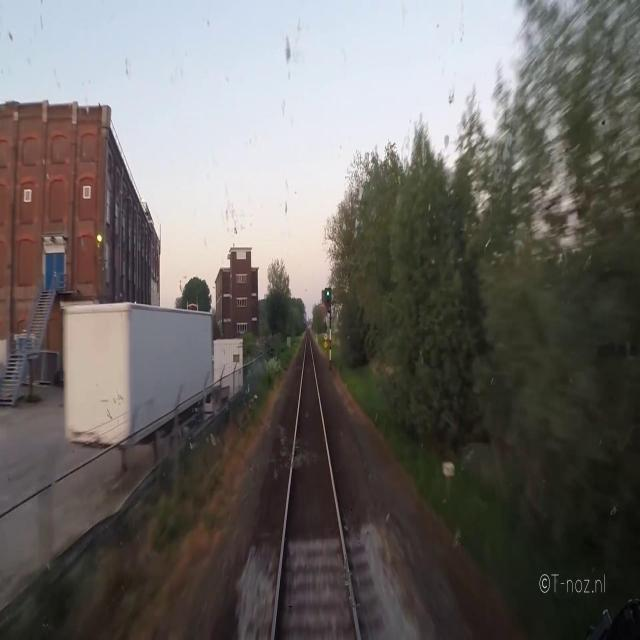rail-track: (275, 339, 356, 639)
